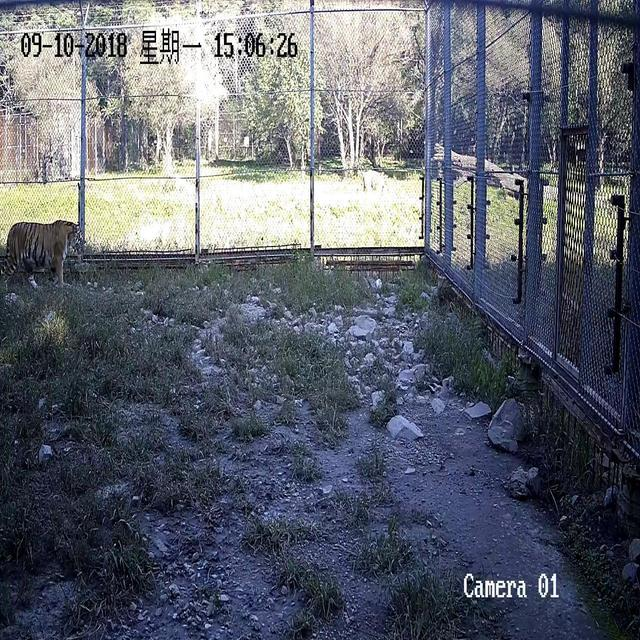tiger: (5, 218, 77, 287)
